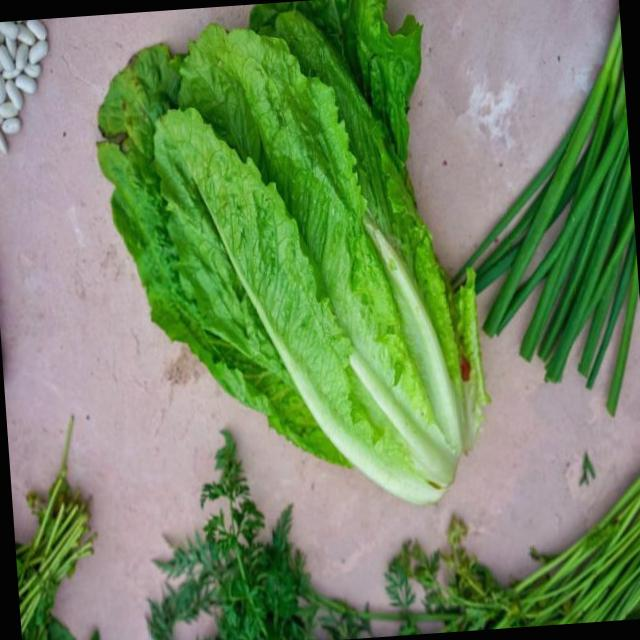Lettuce-Ready-to-Harvest: (98, 0, 487, 504)
